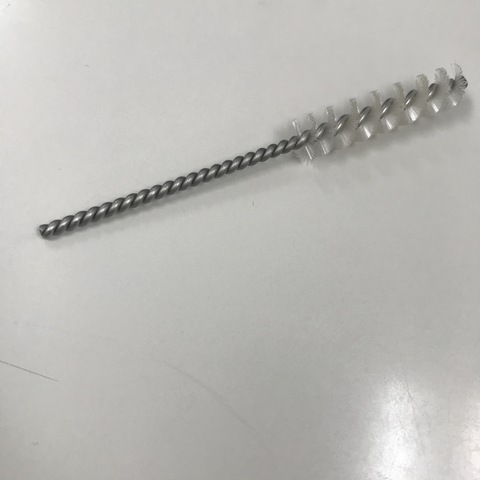Twist Brush-B: (35, 61, 474, 234)
